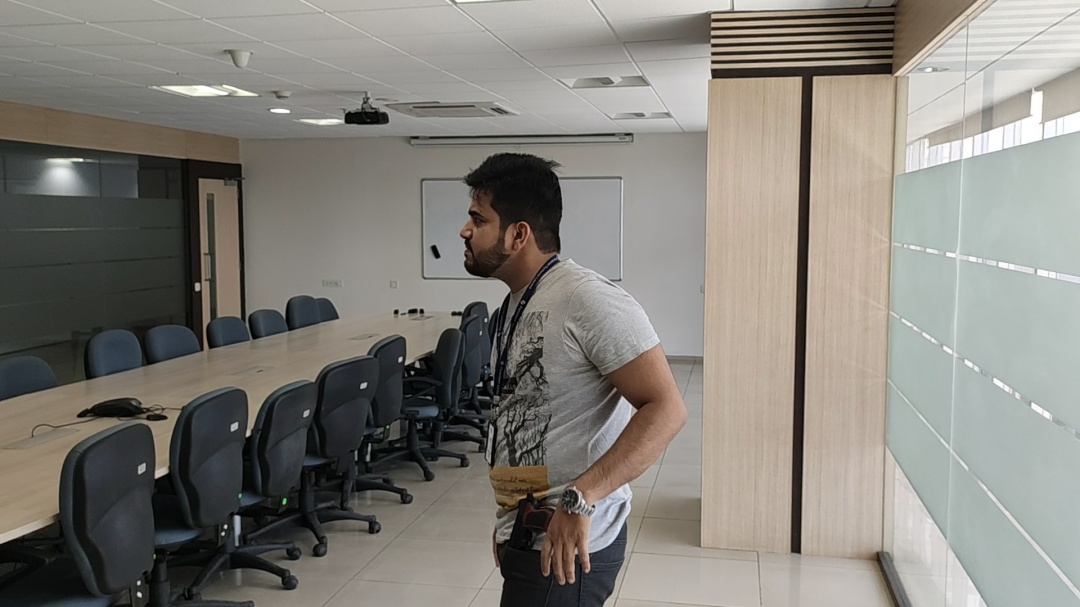gun: (337, 67, 810, 542)
